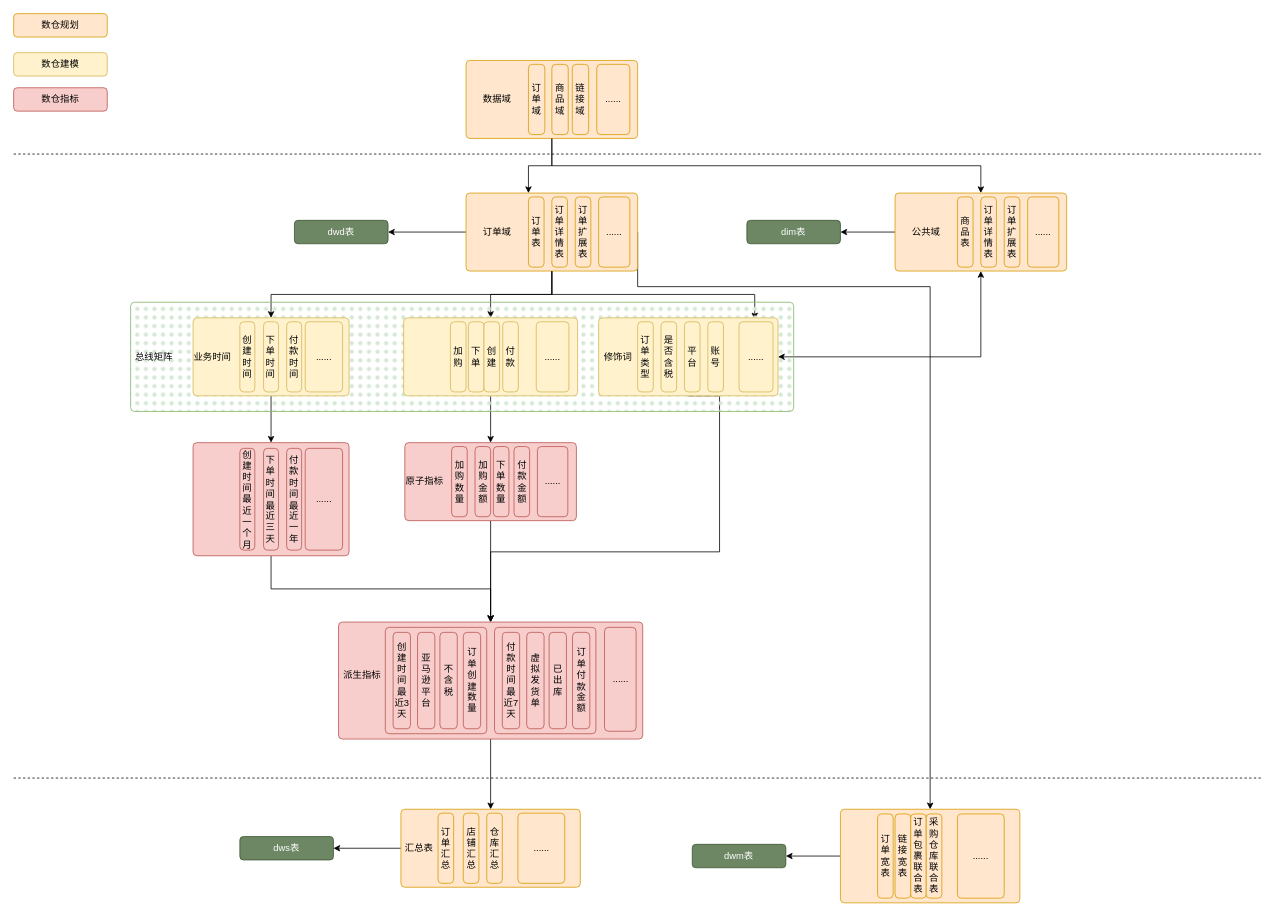
The diagram is 1276 pixels wide and 916 high, and some of its shapes have lost their labels. The shapes that lost their labels are listed below. From the top down, each one's box as (x1, y1, x2, y2) in pixels, then its label:
(403, 317, 450, 396): 业务过程
(192, 442, 232, 556): 时间周期
(840, 808, 878, 903): 联合表
